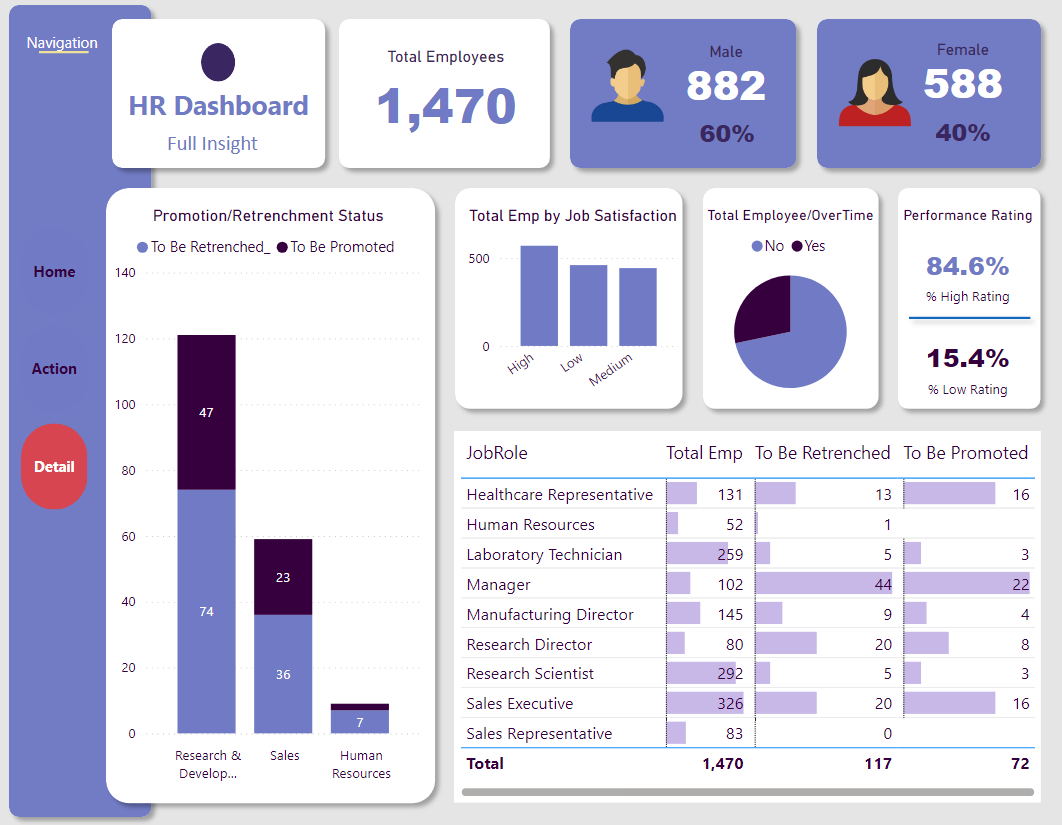

Layout of this report page (visuals, bound fields, positions):
{"tool":"powerbi","page":{"name":"Detail","canvas":[960,750],"ordinal":2},"visuals":[{"type":"shape","box":[0,0,146.4,749.9],"z":0},{"type":"shape","box":[92.6,12.9,210.1,152.4],"z":2000},{"type":"shape","box":[297.8,12.9,208.1,152.4],"z":3000},{"type":"shape","box":[505.9,12.9,222.1,152.4],"z":4000},{"type":"shape","box":[728,12.9,220.1,152.4],"z":5000},{"type":"textbox","box":[99.6,77.7,197.2,48.8],"z":6000},{"type":"textbox","box":[93.6,116.5,197.2,48.8],"z":7000},{"type":"shape","box":[182.2,42.8,30.9,34.9],"z":8000},{"type":"card","title":"Total Employees","fields":{"Values":["All Measures.Total Emp"]},"box":[328.6,47.8,147.4,83.7],"z":9000},{"type":"card","title":"Male","fields":{"Values":["All Measures.Male"]},"box":[603.5,42.8,104.6,58.8],"z":10000},{"type":"card","title":"Male","fields":{"Values":["All Measures.% Male"]},"box":[617.4,106.6,77.7,38.8],"z":11000},{"type":"card","title":"Female","fields":{"Values":["All Measures.Female"]},"box":[816.6,41.9,104.6,58.8],"z":12000},{"type":"card","title":"Male","fields":{"Values":["All Measures.% Female"]},"box":[830.6,105.6,77.7,38.8],"z":13000},{"type":"image","box":[528.8,42.8,74.7,76.7],"z":14000},{"type":"image","box":[748.9,50.8,81.7,74.7],"z":15000},{"type":"shape","box":[87.6,165.3,314.7,572.6],"z":16000},{"type":"columnChart","title":"Promotion/Retrenchment Status","fields":{"Category":["HR Analytics Data.Department"],"Y":["All Measures.To Be Retrenched_","All Measures.To Be Promoted"]},"box":[98.6,191.2,288.8,525.8],"z":17000},{"type":"shape","box":[402.3,165.3,223.1,217.1],"z":18000},{"type":"shape","box":[625.4,165.3,176.3,217.1],"z":19000},{"type":"shape","box":[801.7,165.3,146.4,217.1],"z":20000},{"type":"columnChart","fields":{"Category":["HR Analytics Data.Job Satisfaction"],"Y":["All Measures.Total Emp"]},"box":[417.3,191.2,200.2,184.2],"z":21000},{"type":"pieChart","title":"Total Employee/OverTime","fields":{"Y":["All Measures.Total Emp"],"Category":["HR Analytics Data.OverTime"]},"box":[609.5,191.2,208.1,181.2],"z":22000},{"type":"tableEx","fields":{"Values":["HR Analytics Data.JobRole","All Measures.Total Emp","All Measures.To be retrenched","All Measures.To Be Promoted"]},"box":[410.3,393.4,528.8,334.6],"z":23000},{"type":"card","title":"Performance Rating","fields":{"Values":["All Measures.% High Rating"]},"box":[807.6,191.2,131.5,108.5],"z":24000},{"type":"card","title":"Performance Rating","fields":{"Values":["All Measures.% Low Rating"]},"box":[807.6,281.8,131.5,108.5],"z":25000},{"type":"shape","box":[811.6,281.8,127.5,17.9],"z":26000},{"type":"textbox","box":[19.9,28.9,85.6,43.8],"z":27000},{"type":"shape","box":[35.8,12.9,44.8,77.7],"z":28000},{"type":"pageNavigator","box":[19.9,210.1,60.7,255.9],"z":28001}]}

Visuals, with their boxes in screenshot pixels (x1, y1, x2, y2), scaled from the page's 960x750 canvas onto the 1062x825 screenshot:
shape: 0, 0, 162, 824
shape: 102, 14, 335, 182
shape: 329, 14, 560, 182
shape: 560, 14, 805, 182
shape: 805, 14, 1049, 182
textbox: 110, 85, 328, 139
textbox: 104, 128, 322, 182
shape: 202, 47, 236, 85
"Total Employees" card: 364, 53, 527, 145
"Male" card: 668, 47, 783, 112
"Male" card: 683, 117, 769, 160
"Female" card: 903, 46, 1019, 111
"Male" card: 919, 116, 1005, 159
image: 585, 47, 668, 131
image: 828, 56, 919, 138
shape: 97, 182, 445, 812
"Promotion/Retrenchment Status" columnChart: 109, 210, 429, 789
shape: 445, 182, 692, 421
shape: 692, 182, 887, 421
shape: 887, 182, 1049, 421
columnChart - HR Analytics Data.Job Satisfaction x All Measures.Total Emp: 462, 210, 683, 413
"Total Employee/OverTime" pieChart: 674, 210, 904, 410
tableEx - HR Analytics Data.JobRole x All Measures.Total Emp: 454, 433, 1039, 801
"Performance Rating" card: 893, 210, 1039, 330
"Performance Rating" card: 893, 310, 1039, 429
shape: 898, 310, 1039, 330
textbox: 22, 32, 117, 80
shape: 40, 14, 89, 100
pageNavigator: 22, 231, 89, 513
